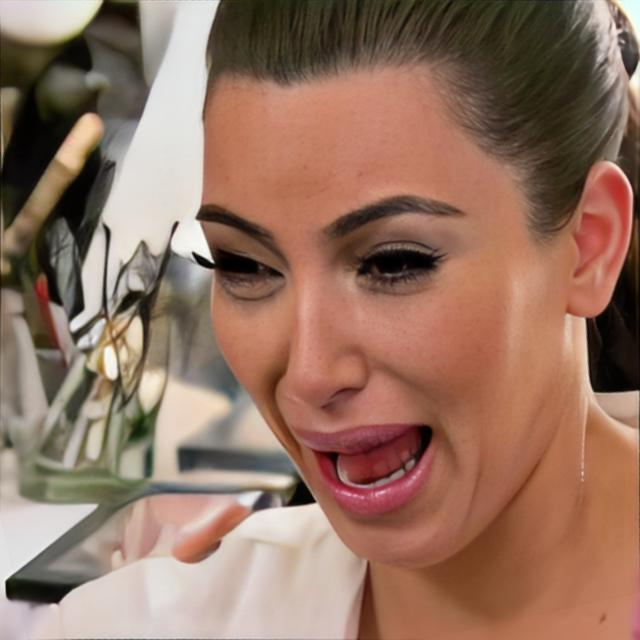sad: (191, 44, 567, 574)
